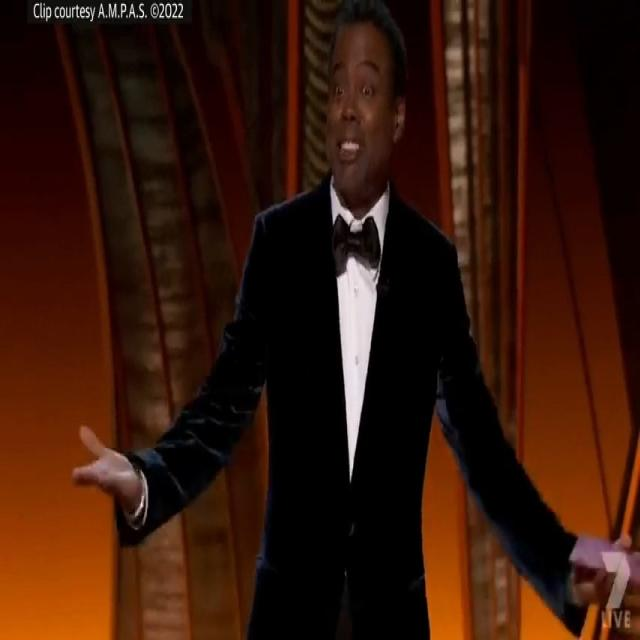non-fight: (67, 9, 626, 640)
